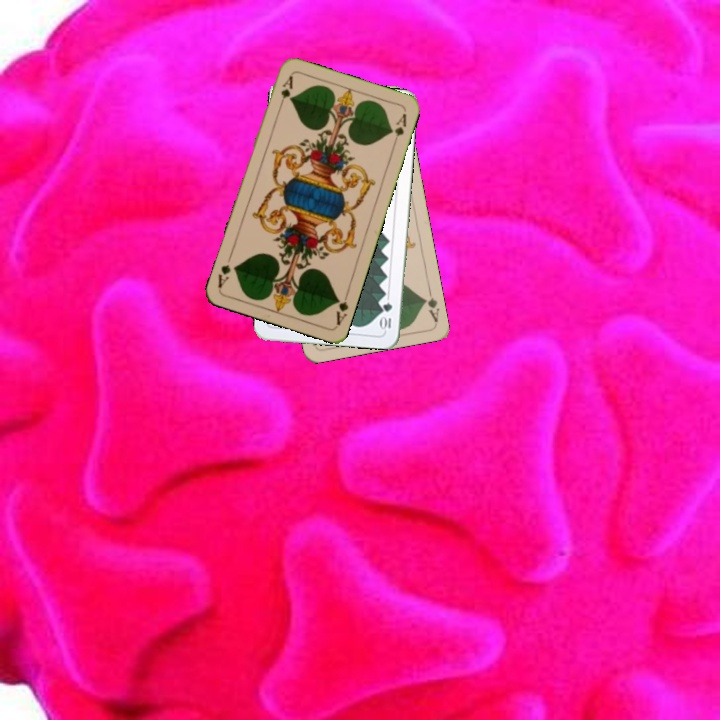G10: (378, 299, 395, 332)
GA: (419, 284, 442, 325), (275, 72, 295, 111), (332, 288, 351, 328)
